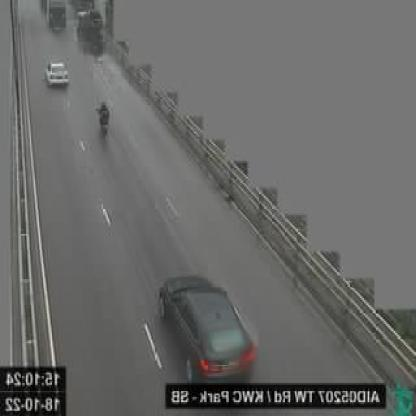Car: (158, 275, 258, 383), (43, 58, 71, 92)
Truck: (46, 0, 69, 35)
